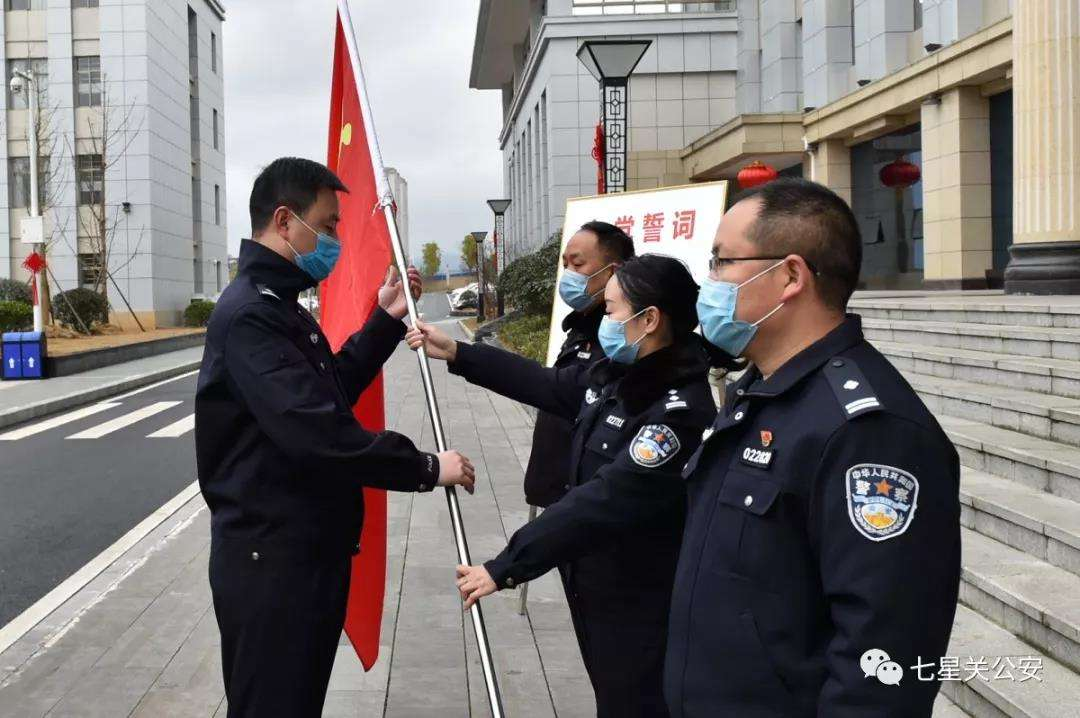Mask: (691, 202, 809, 361), (593, 277, 665, 363), (289, 190, 346, 287), (555, 228, 616, 304)
